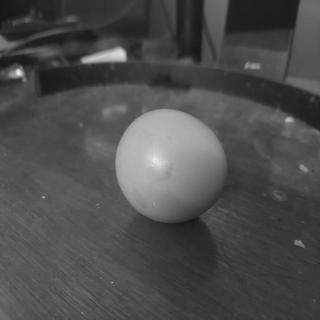Telur: (116, 108, 232, 226)
